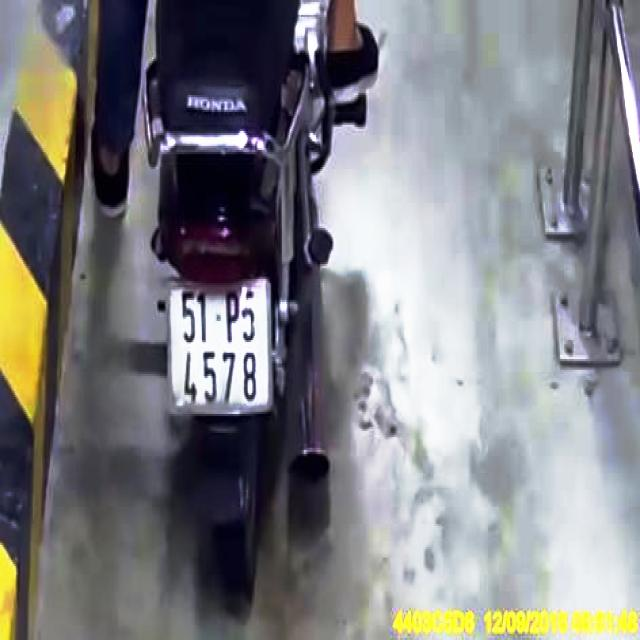license_plate: (168, 277, 276, 410)
